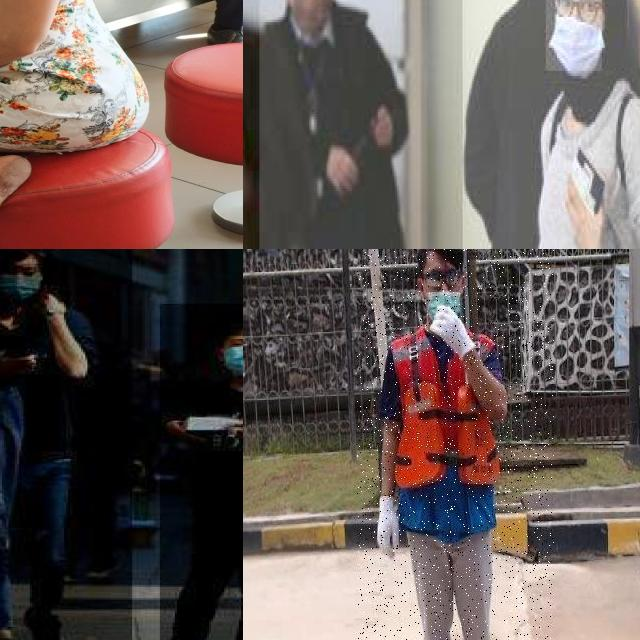Barefoots: (0, 155, 31, 249)
face_mask: (545, 0, 603, 73), (0, 264, 40, 304), (221, 336, 243, 376)
face_nomask: (294, 0, 331, 24)
glasses: (549, 0, 607, 22)
hand_noglove: (562, 165, 610, 248), (325, 144, 359, 198)
head_nohelmet: (219, 308, 243, 335), (0, 249, 53, 259)
person: (357, 249, 554, 640), (0, 249, 134, 640), (462, 0, 640, 249), (259, 0, 422, 249), (509, 0, 640, 249), (160, 304, 243, 640)
shoes: (17, 600, 79, 640)
vest: (387, 326, 506, 546)
